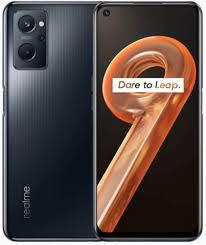Smartphone: (6, 1, 99, 243)
